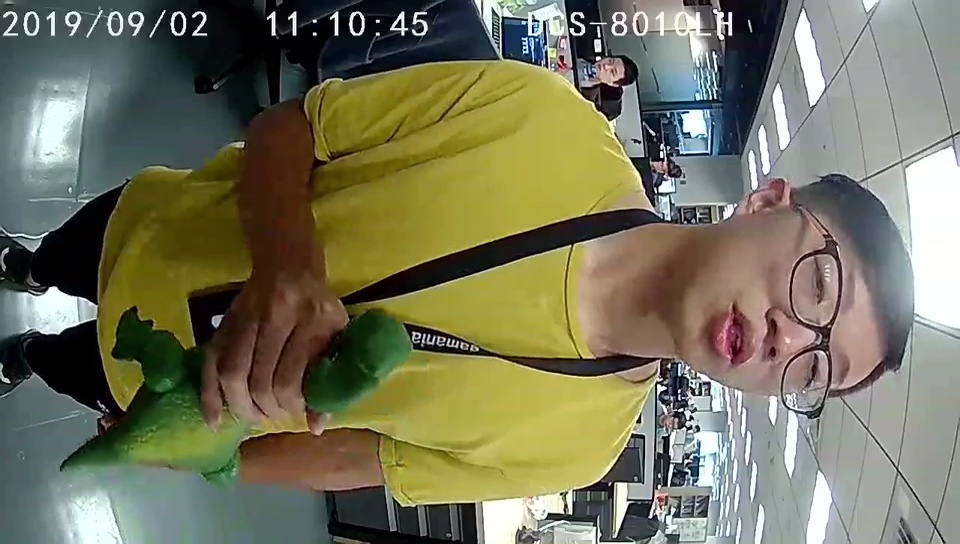rex: (135, 307, 412, 485)
